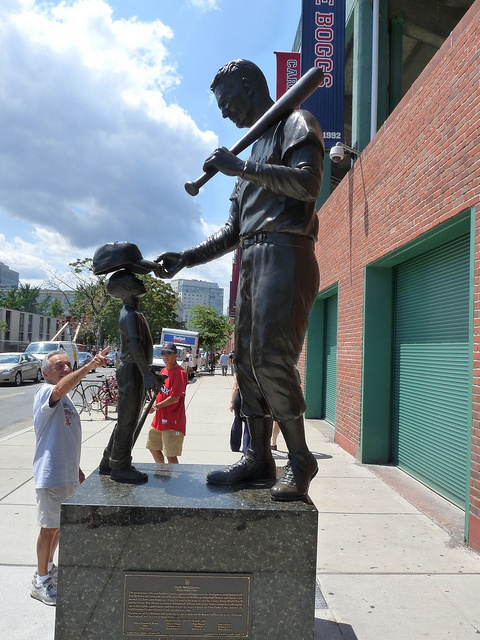non-vehicle: (66, 374, 118, 420), (106, 375, 117, 389)
